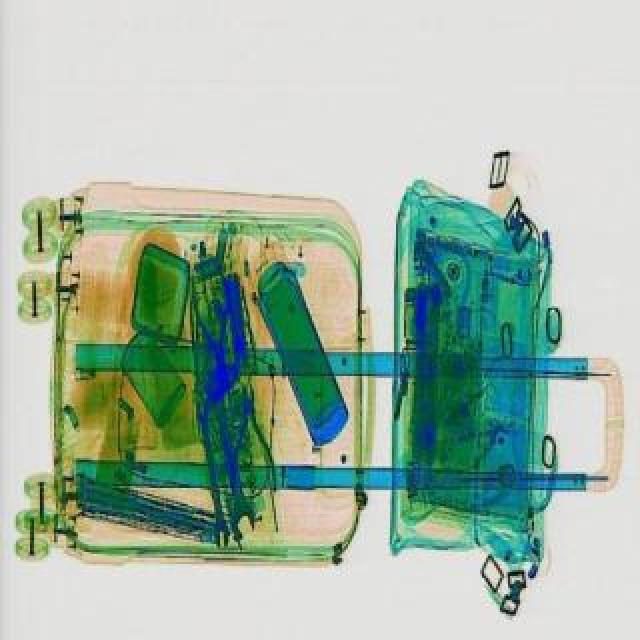scissors: (202, 382, 256, 536), (192, 392, 232, 548)
wrench: (212, 380, 276, 492), (188, 268, 244, 388)
